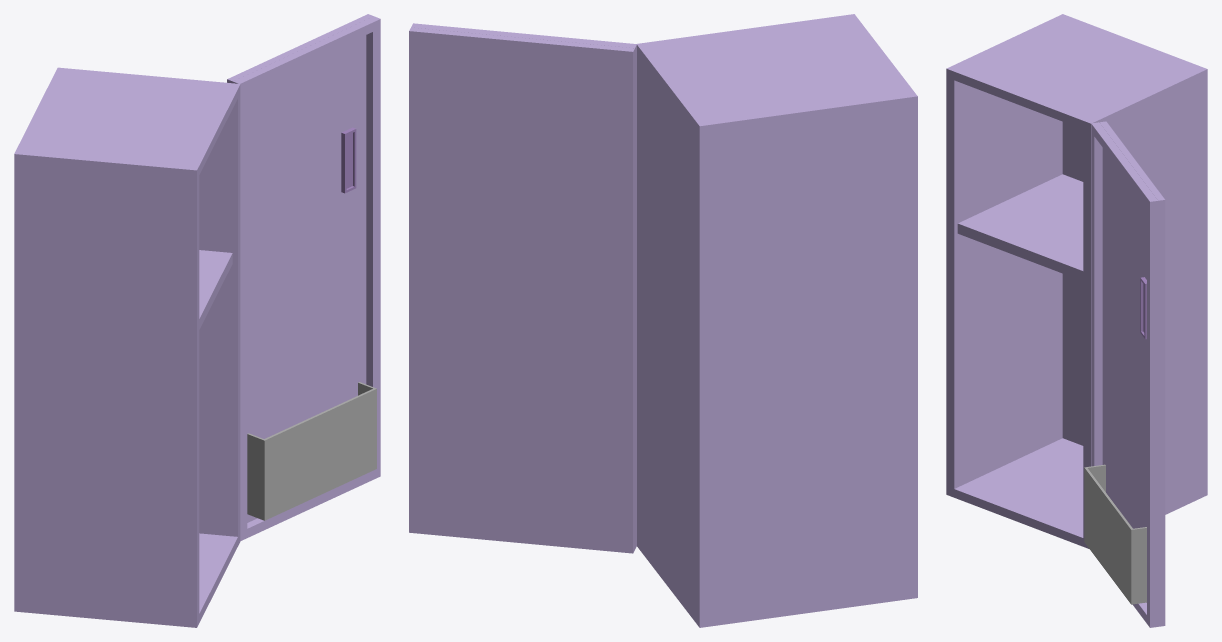
File: cabinet.glb
The picture shows the model from 3 angles, left to right: view 1: azimuth 30°, elevation 25°; view 2: azimuth 150°, elevation 25°; view 3: azimuth 270°, elevation 25°; orthographic projection. The views are drawn at different scales.
Parts seen in each view (by area): view 1: Cube.012; view 2: Cube.012; view 3: Cube.012.
Boxes of the visible parts, bbox=[...] form: Cube.012: bbox=[14, 14, 380, 627]; Cube.012: bbox=[409, 14, 917, 627]; Cube.012: bbox=[946, 14, 1207, 627].
Bounding box in the file's own units: 4.27 × 4.51 × 2.51.
